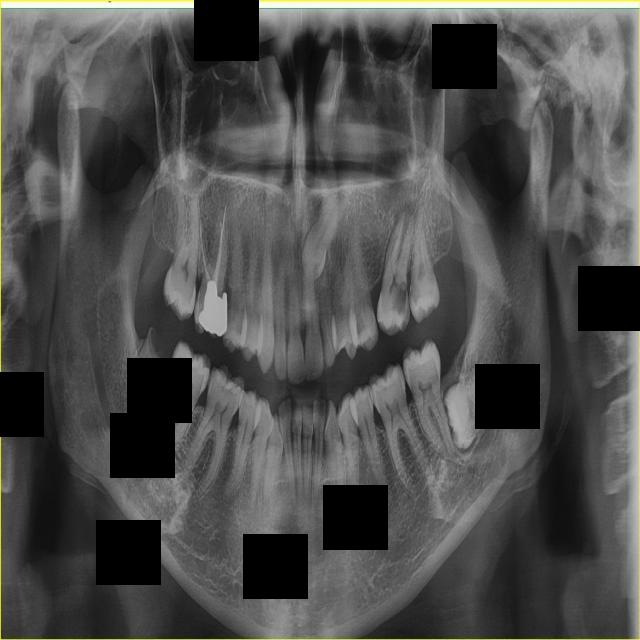72: (119, 327, 183, 407)
74: (211, 204, 229, 284), (197, 218, 211, 282)
NucleOSS Implant: (197, 277, 236, 338)
Sterngold Implant: (390, 280, 414, 319), (408, 275, 419, 312), (217, 383, 238, 401), (227, 282, 233, 321), (404, 370, 410, 383), (400, 372, 406, 385), (380, 385, 390, 391)
